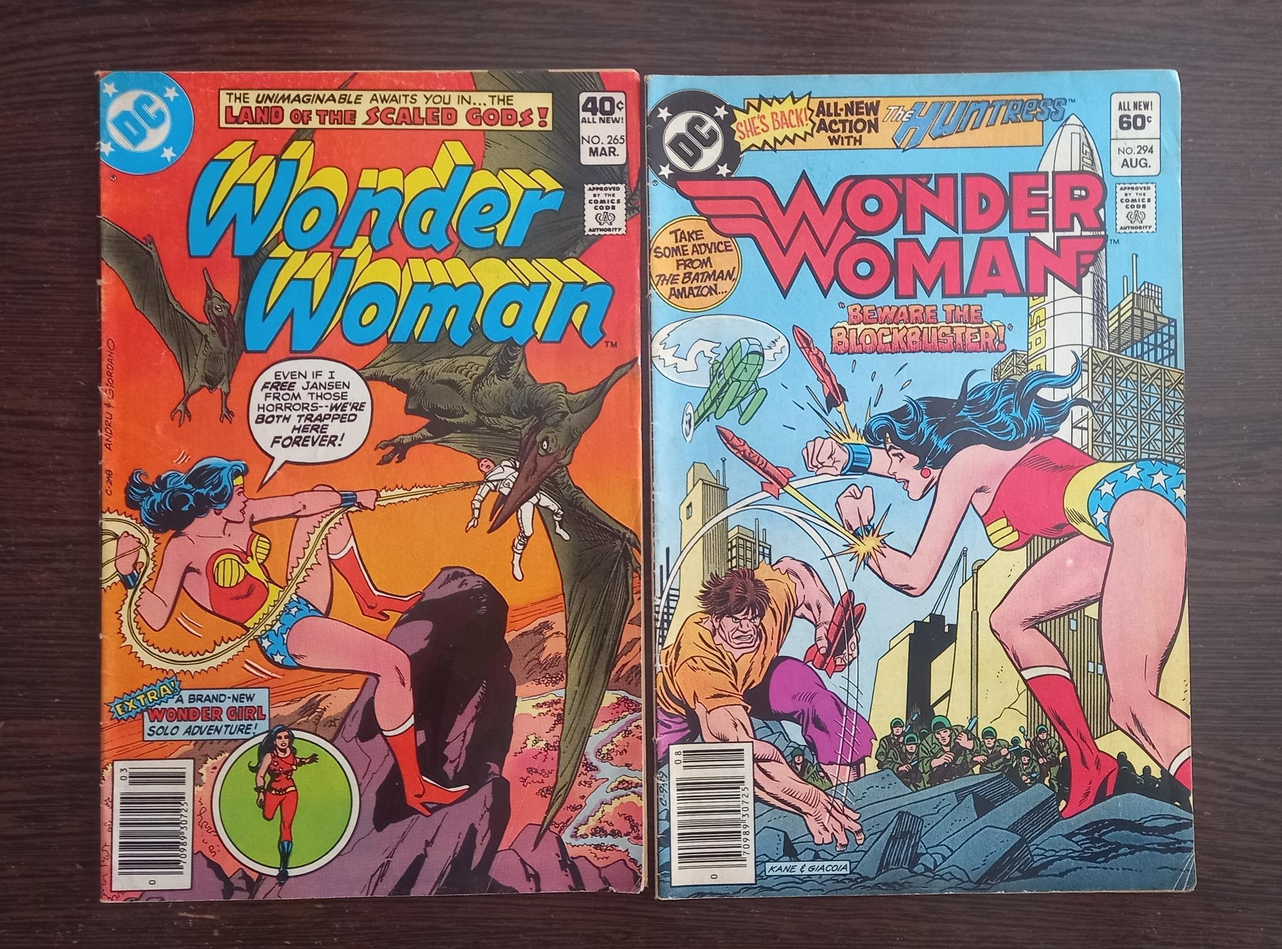comic: (645, 68, 1194, 898), (98, 69, 645, 900)
